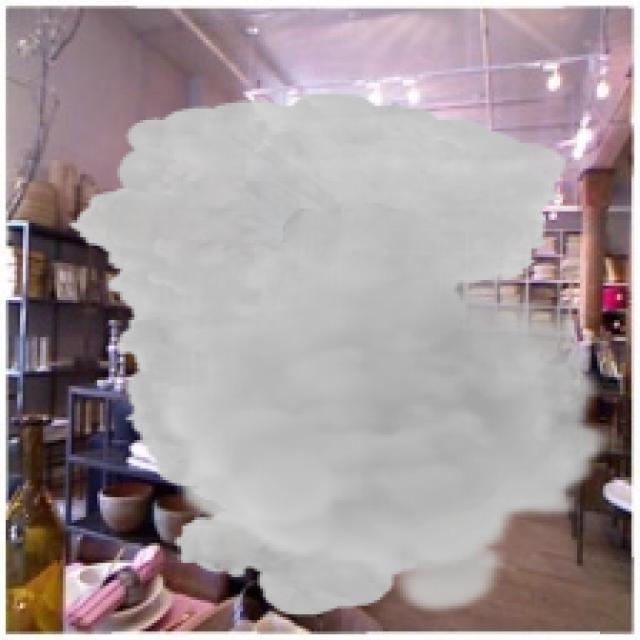Smoke: (66, 92, 612, 618)
